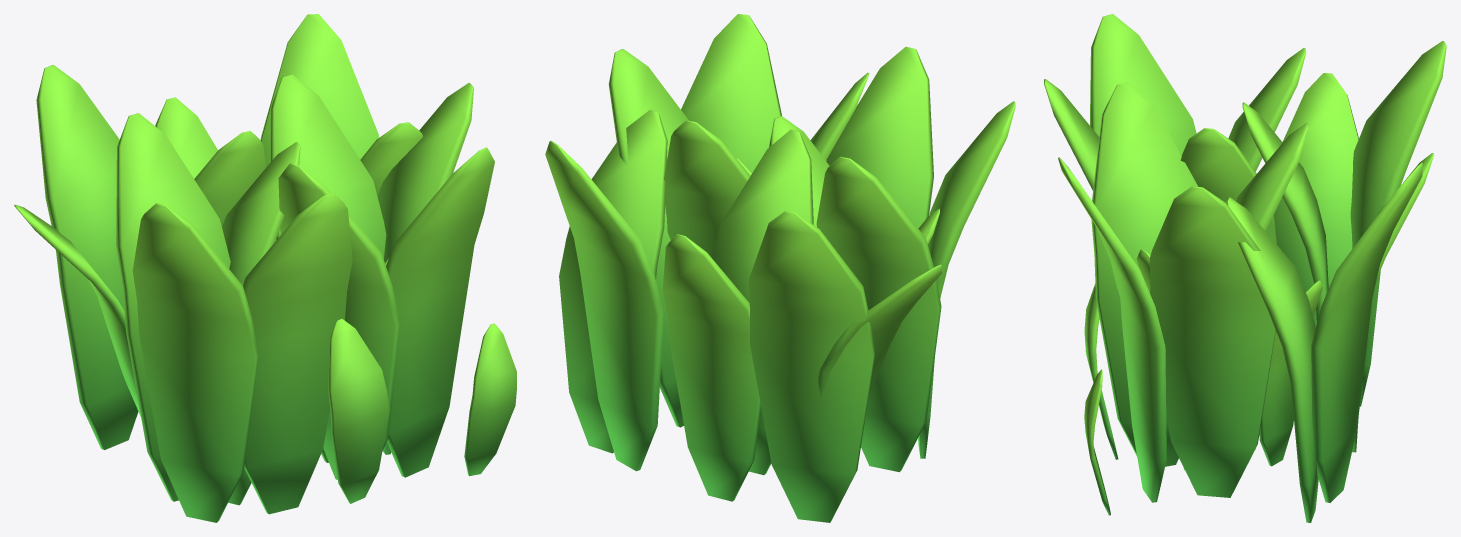
File: Grass001.fbx
3 renders of one model, left to right at view 1: azimuth 30°, elevation 25°; view 2: azimuth 150°, elevation 25°; view 3: azimuth 270°, elevation 25°, orthographic.
Parts seen in each view (by area): view 1: Grass001; view 2: Grass001; view 3: Grass001.
Boxes of the visible parts, <box> form: Grass001: <box>14,14,516,522</box>; Grass001: <box>545,14,1015,522</box>; Grass001: <box>1044,14,1446,522</box>.
Size of the model in its own units: 175 by 147 by 154.
